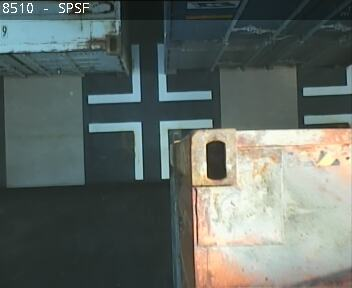groundmarker_1: (86, 43, 210, 105), (89, 120, 212, 180)
